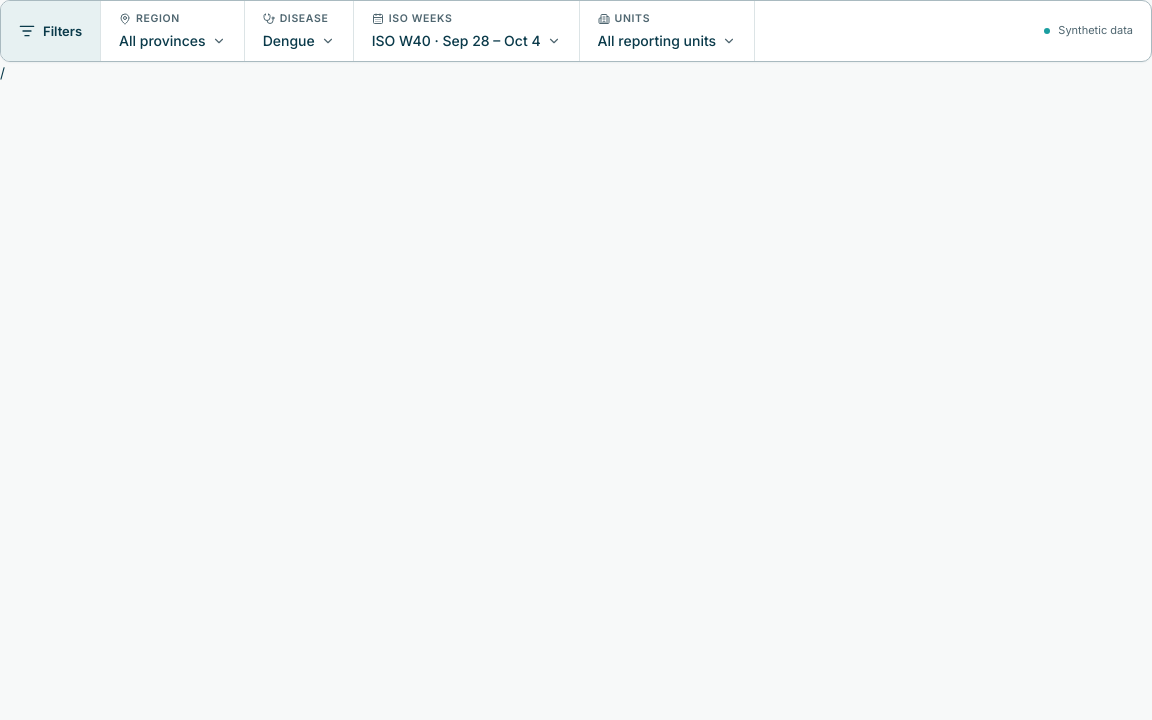
Test case: GlobalFilterBar › sets a week range from the popover
Click the button with aria-label "ISO week range": click(467, 31) [354,1,580,61]
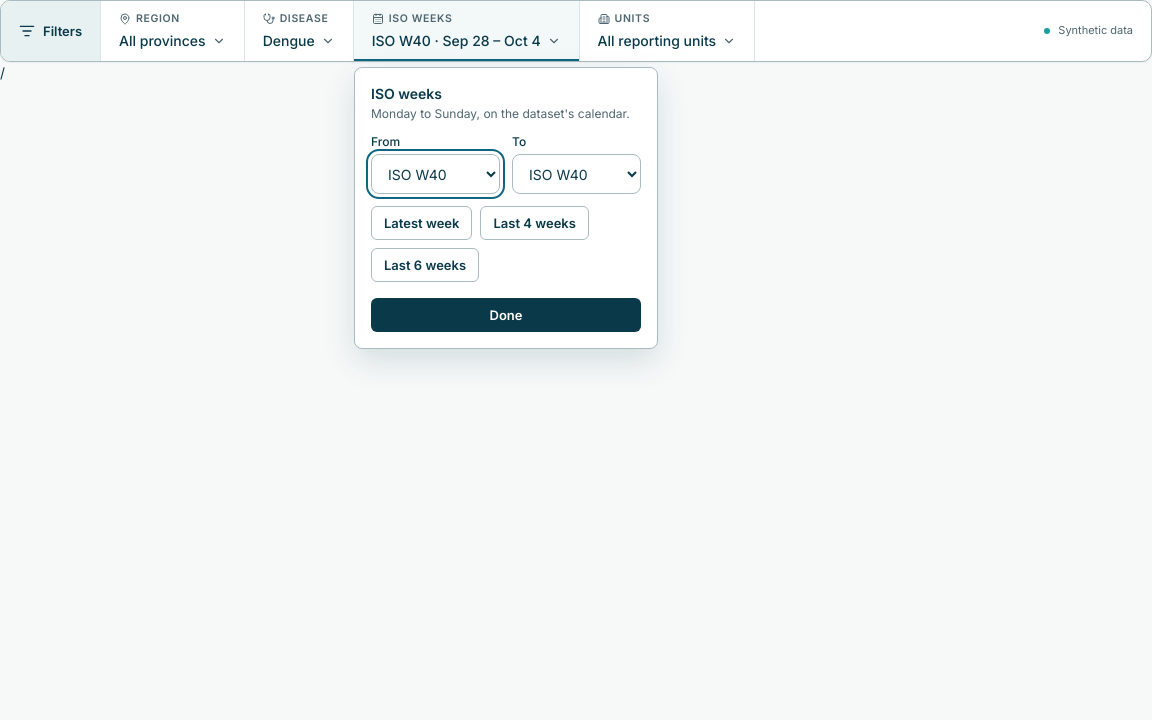
Click the button "Last 4 weeks": click(535, 223) [480,206,589,240]
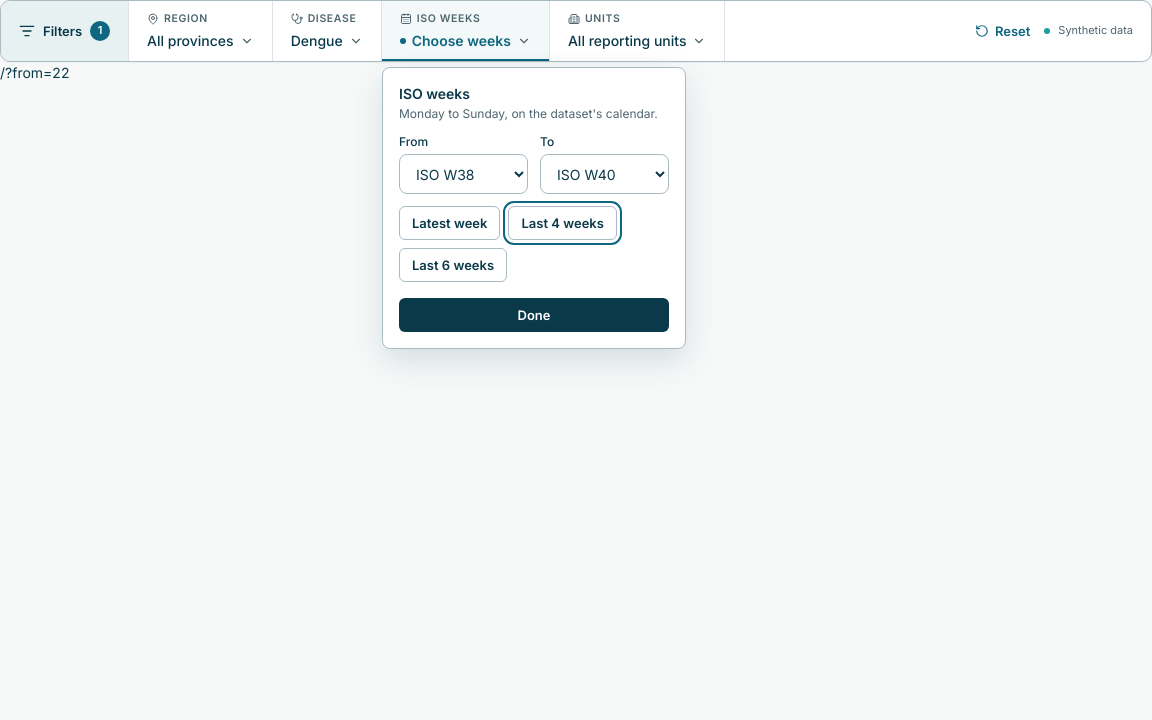
expect the text with test id "location" shows "from=22": met, box [5,64,69,81]
Select "ISO W39" in the dropdown labelled "From": (464, 174) [399,154,528,194]
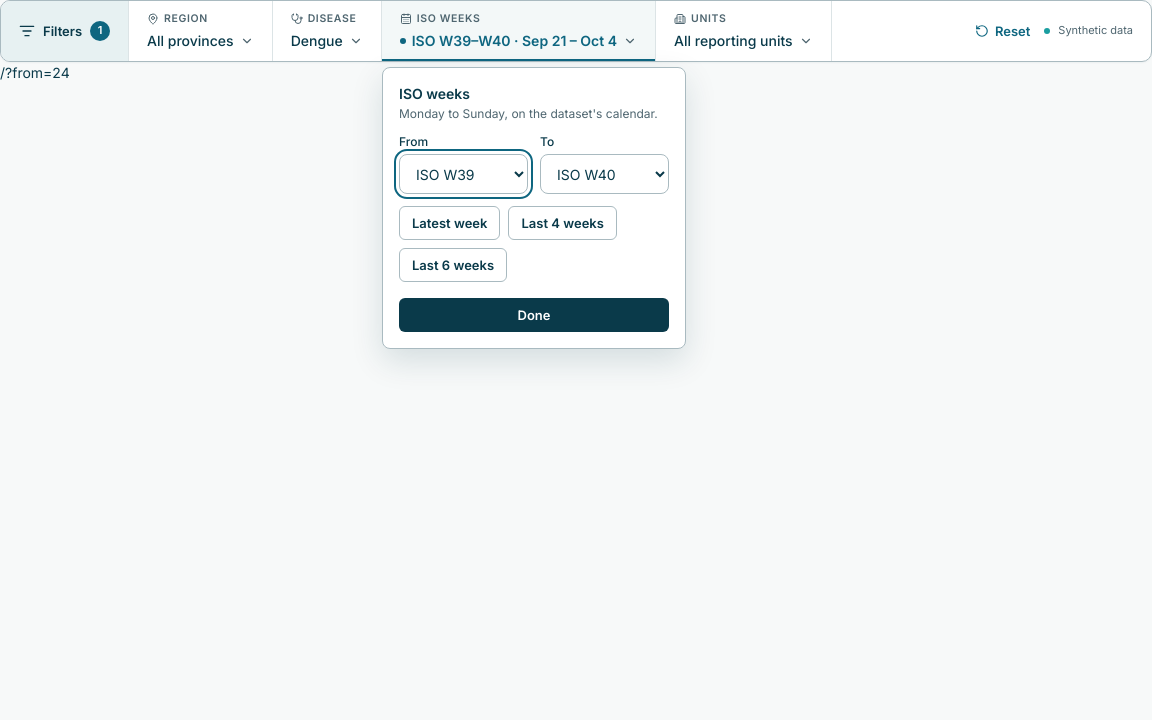
expect the text with test id "location" shows "from=24": met, box [5,64,70,81]
